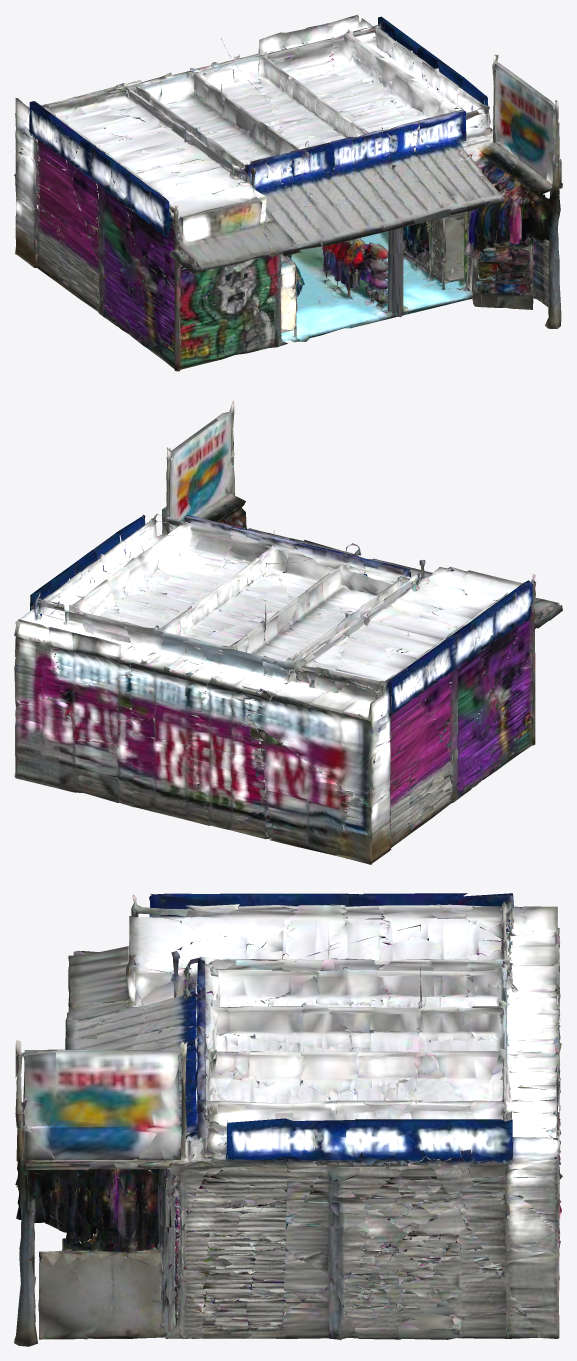
File: store.glb
3 renders of one model, top to bottom at view 1: azimuth 30°, elevation 25°; view 2: azimuth 150°, elevation 25°; view 3: azimuth 270°, elevation 25°, orthographic. The views are drawn at different scales.
Visible parts, largest first — view 1: Mesh_0; view 2: Mesh_0; view 3: Mesh_0.
Part boxes in pixels (x1,y1,x2,y2): Mesh_0: (14,14,562,371); Mesh_0: (14,400,562,864); Mesh_0: (14,893,562,1346).
Bounding box in the file's own units: 7.03 × 4.32 × 7.06.
Materials: 1 (1 with a texture image).
